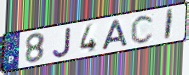4: (79, 23, 99, 53)
8: (24, 32, 46, 64)
A: (101, 19, 129, 52)
C: (129, 14, 156, 45)
I: (163, 7, 175, 42)
J: (52, 26, 73, 59)
